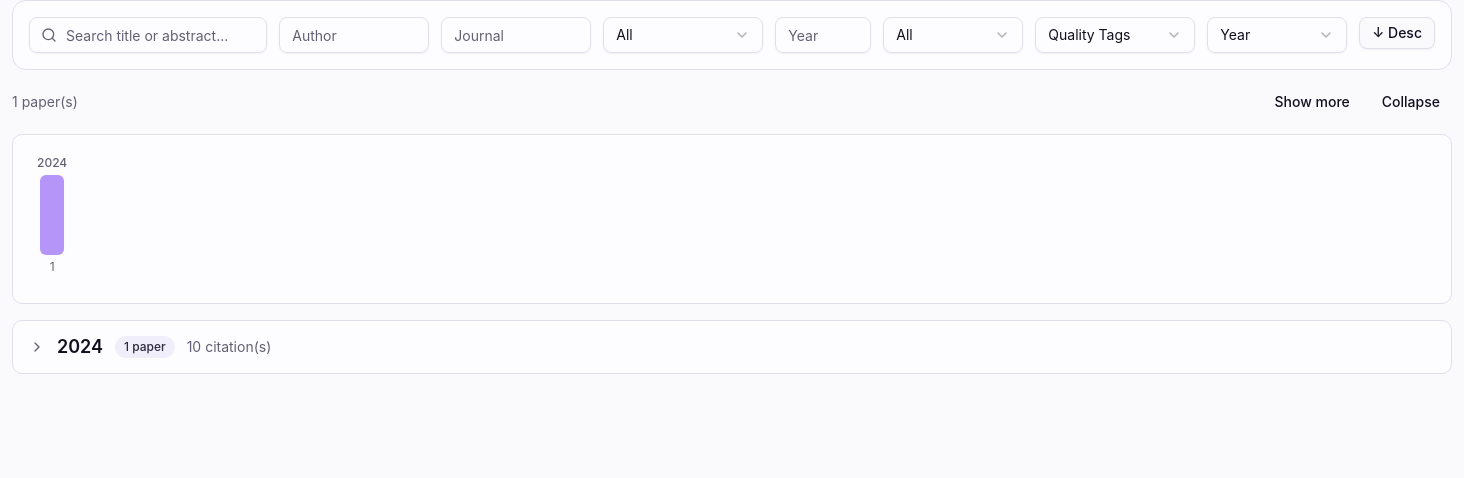
Test: TimelinePage › expands year group on click to show paper title
Expected: the 1st text "2024" is shown, [37,155,67,171]
Click the button "2024 1" at (52, 215), box [29,151,75,279]
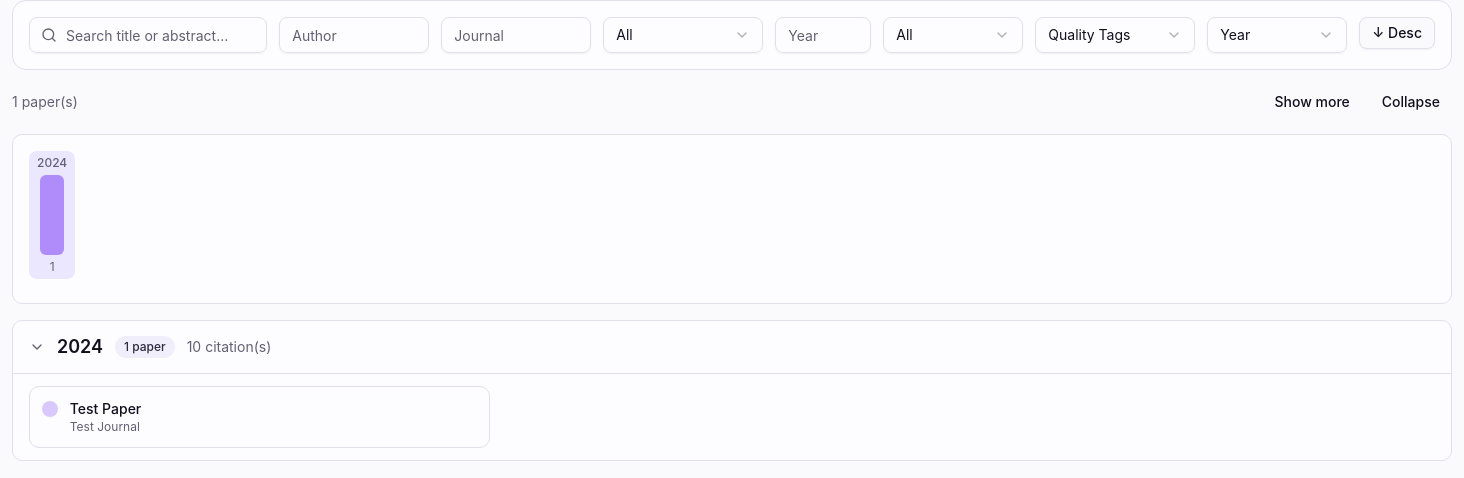
Result: the text "Test Paper" is shown at [70,400,141,417]
